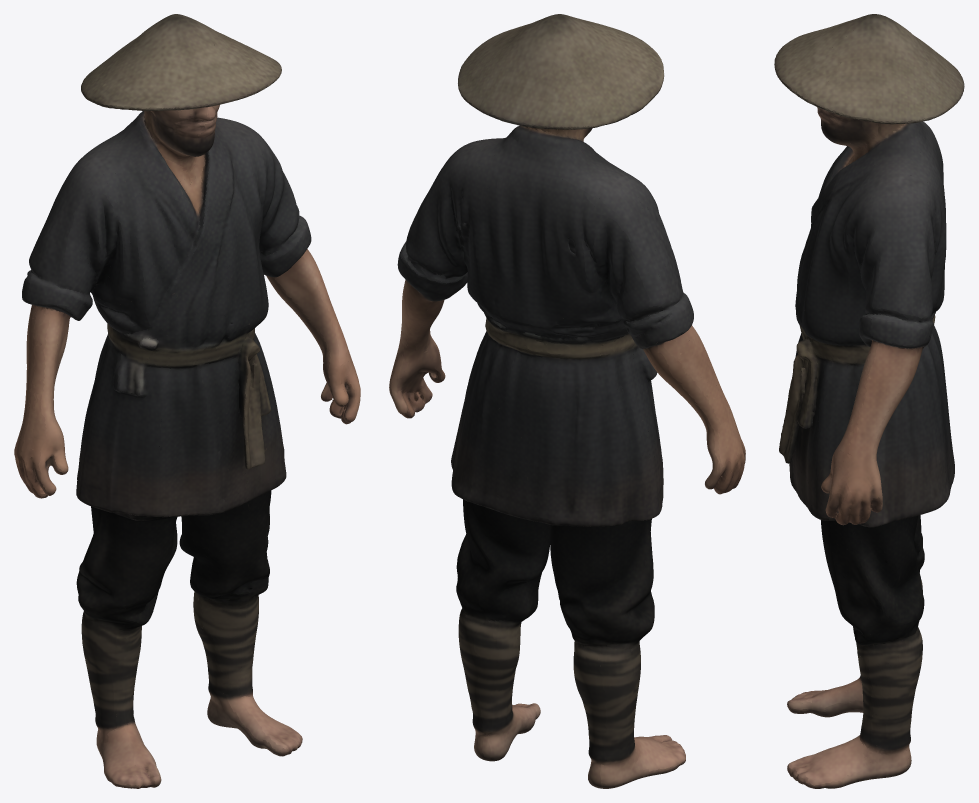
Rendered from boatman.glb.
3 views of the same model, side by side, from view 1: azimuth 30°, elevation 25°; view 2: azimuth 150°, elevation 25°; view 3: azimuth 270°, elevation 25° (orthographic). The views are drawn at different scales.
Parts seen in each view (by area): view 1: world; view 2: world; view 3: world.
Boxes of the visible parts, x1,y1,x2,y2 form: world: (14,14,360,788); world: (389,14,745,788); world: (774,14,964,788).
Bounding box in the file's own units: 0.8472 × 1.75 × 0.4134.
1 material, 1 textured.
